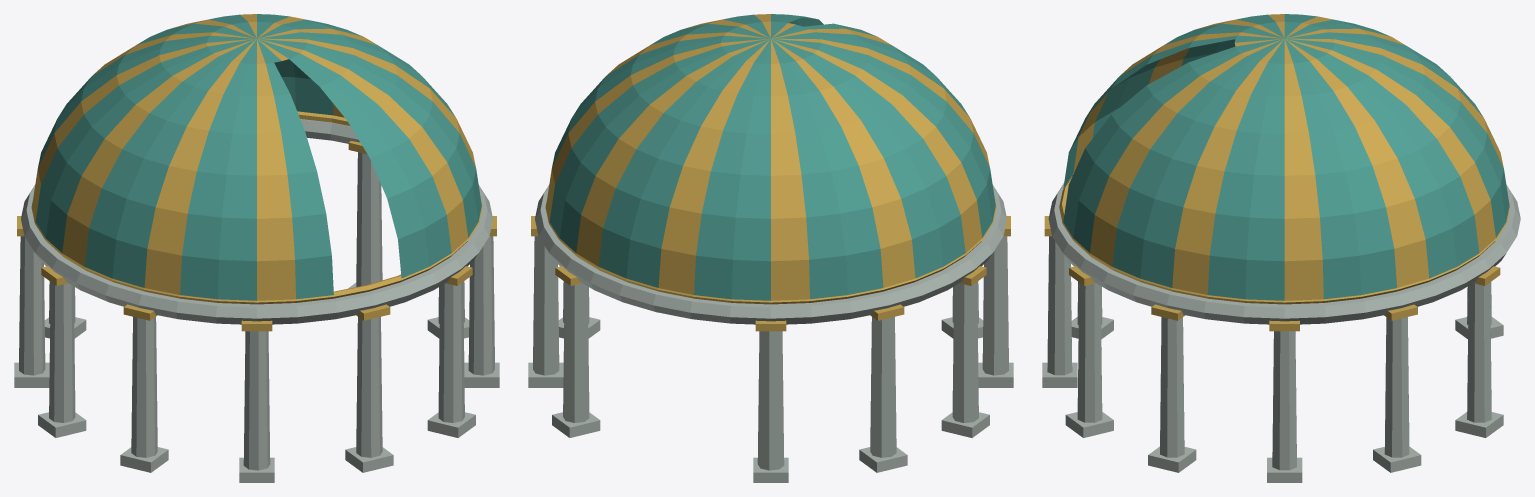
Rendered from observatory_dome.glb.
3 views of the same model, side by side, from view 1: azimuth 30°, elevation 25°; view 2: azimuth 150°, elevation 25°; view 3: azimuth 270°, elevation 25° (orthographic).
Visible parts, largest first — view 1: ObservatoryDome; view 2: ObservatoryDome; view 3: ObservatoryDome.
Part boxes in pixels (box(x1,y1,x2,y2)): ObservatoryDome: box(14, 14, 499, 482); ObservatoryDome: box(528, 14, 1013, 482); ObservatoryDome: box(1042, 14, 1520, 482).
Bounding box in the file's own units: 15.1 × 11.74 × 14.9.
